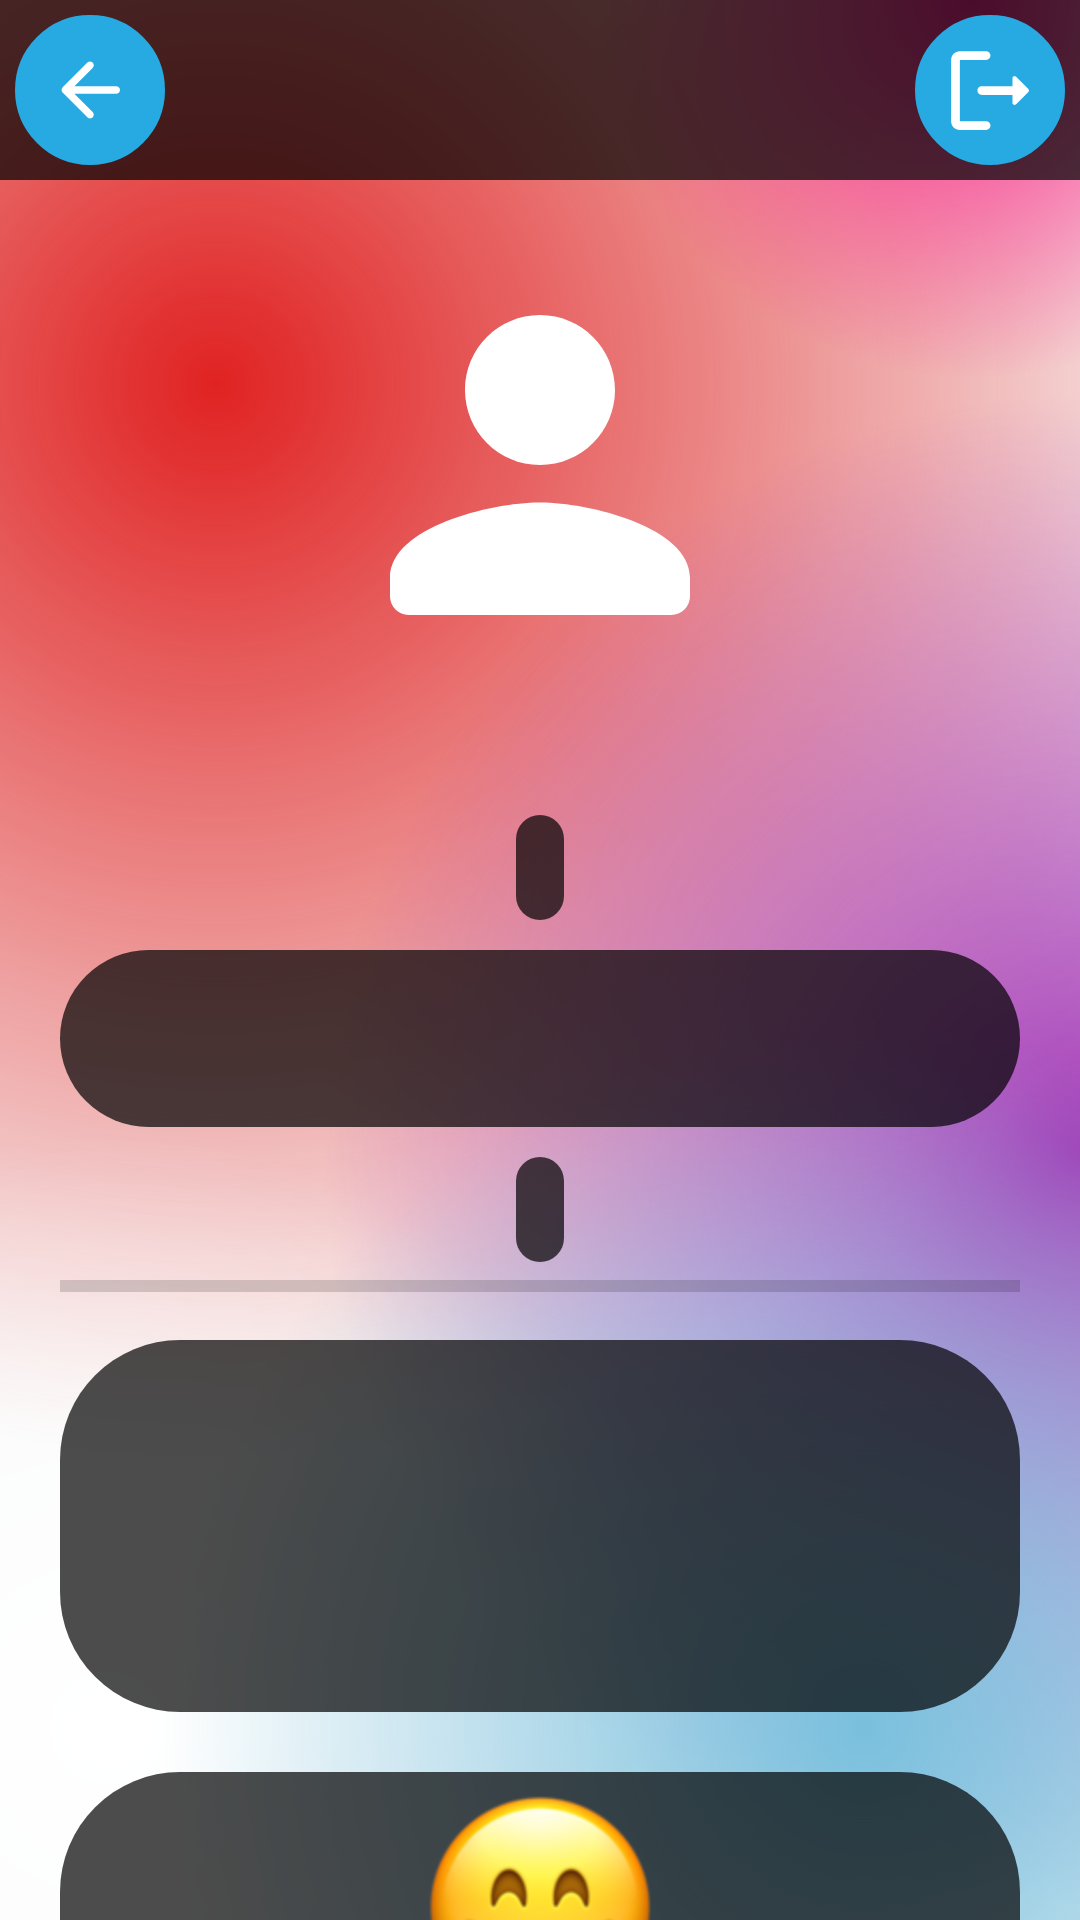

Icon click points for this 1080px x 1920px phone screenshot, format (x,y):
arrow back: (90,90)
